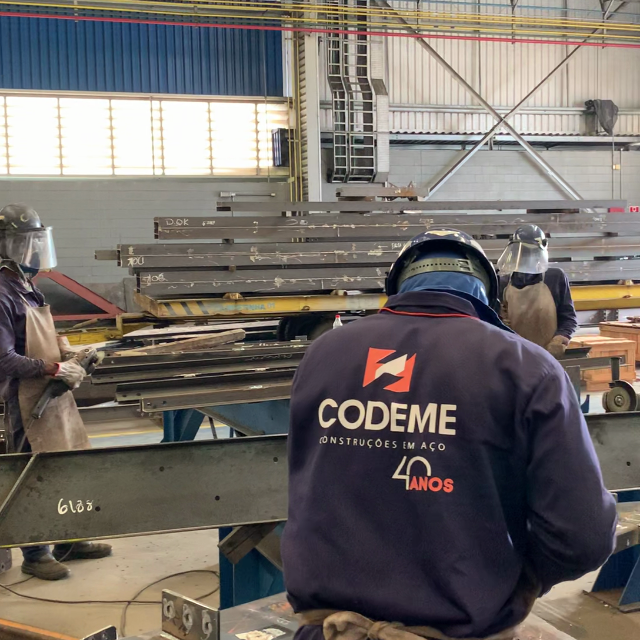face-shield: (5, 228, 60, 272)
glove: (49, 359, 89, 391)
person: (1, 201, 98, 449), (1, 202, 42, 233)
safety-shoe: (23, 549, 72, 582), (52, 543, 111, 561)
